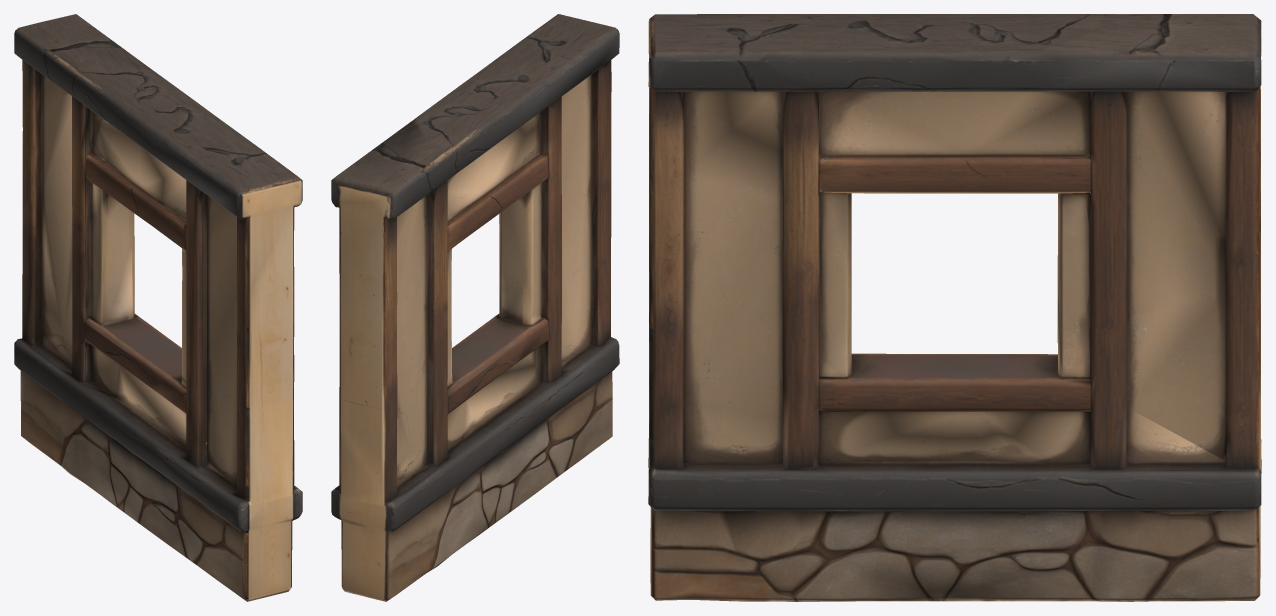
Rendered from wall-window.glb.
The picture shows the model from 3 angles, left to right: view 1: azimuth 30°, elevation 25°; view 2: azimuth 150°, elevation 25°; view 3: azimuth 270°, elevation 25°; orthographic projection. The views are drawn at different scales.
Parts seen in each view (by area): view 1: Mesh_0; view 2: Mesh_0; view 3: Mesh_0.
Part boxes in pixels (x1,y1,x2,y2): Mesh_0: [14, 14, 302, 601]; Mesh_0: [331, 14, 619, 601]; Mesh_0: [648, 14, 1261, 601].
Size of the model in its own units: 0.334 by 2 by 2.
1 material, 1 textured.
